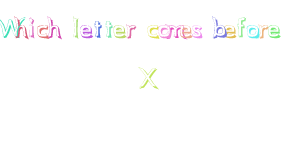W: (1, 15, 18, 43)
X: (131, 61, 167, 91)
b: (211, 13, 225, 40)
c: (147, 20, 159, 42), (36, 21, 48, 41)
e: (225, 17, 237, 44), (113, 20, 127, 42), (269, 21, 283, 41), (80, 22, 94, 41), (183, 19, 193, 43)
f: (238, 15, 248, 42)
h: (46, 14, 63, 41), (14, 16, 27, 42)
i: (26, 16, 38, 42)
l: (68, 16, 83, 43)
m: (168, 21, 185, 43)
o: (246, 19, 261, 42), (158, 19, 172, 42)
r: (126, 21, 140, 43), (258, 21, 269, 41)
s: (191, 21, 205, 42)
t: (94, 18, 104, 41), (105, 19, 114, 42)
